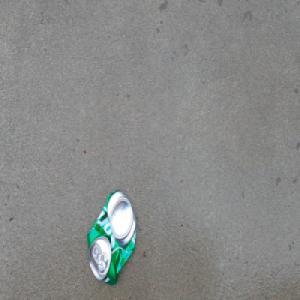SodaCan: (86, 187, 137, 286)
